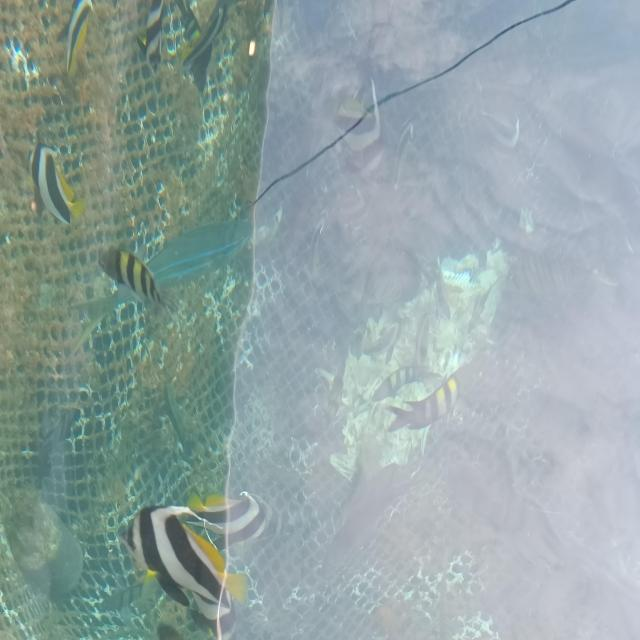ikan: (117, 502, 249, 638), (97, 244, 178, 318), (185, 489, 272, 549), (29, 141, 84, 225), (383, 375, 458, 433), (181, 2, 228, 94), (370, 364, 445, 402), (56, 0, 93, 77)
